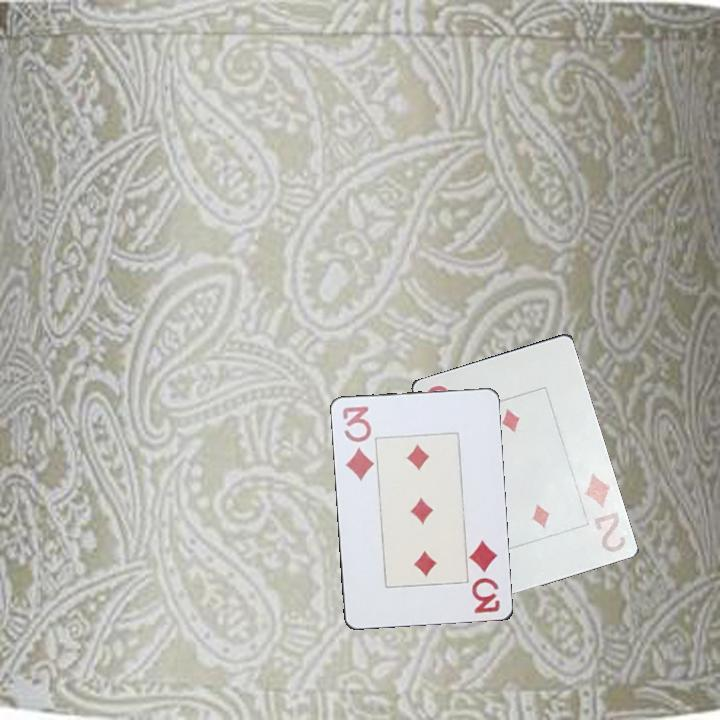2d: (579, 469, 631, 555)
3d: (339, 403, 377, 484), (467, 537, 503, 616)
